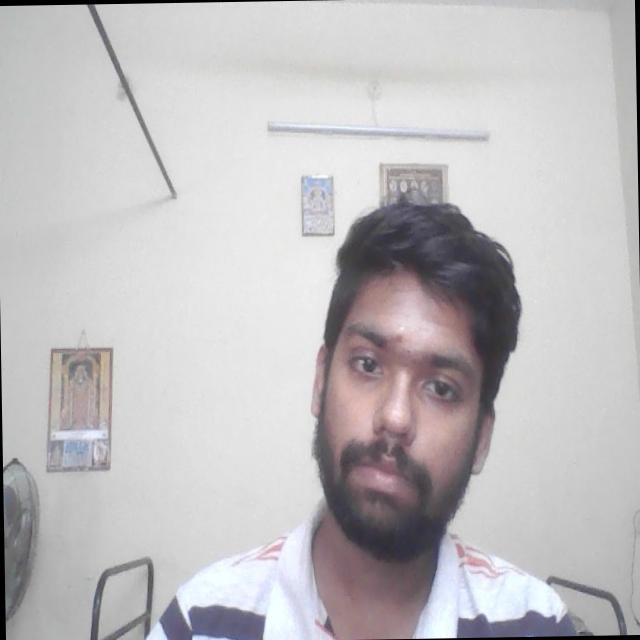Focused: (318, 282, 502, 530)
